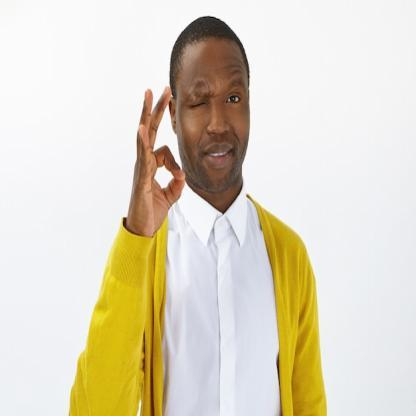ok: (127, 81, 188, 235)
